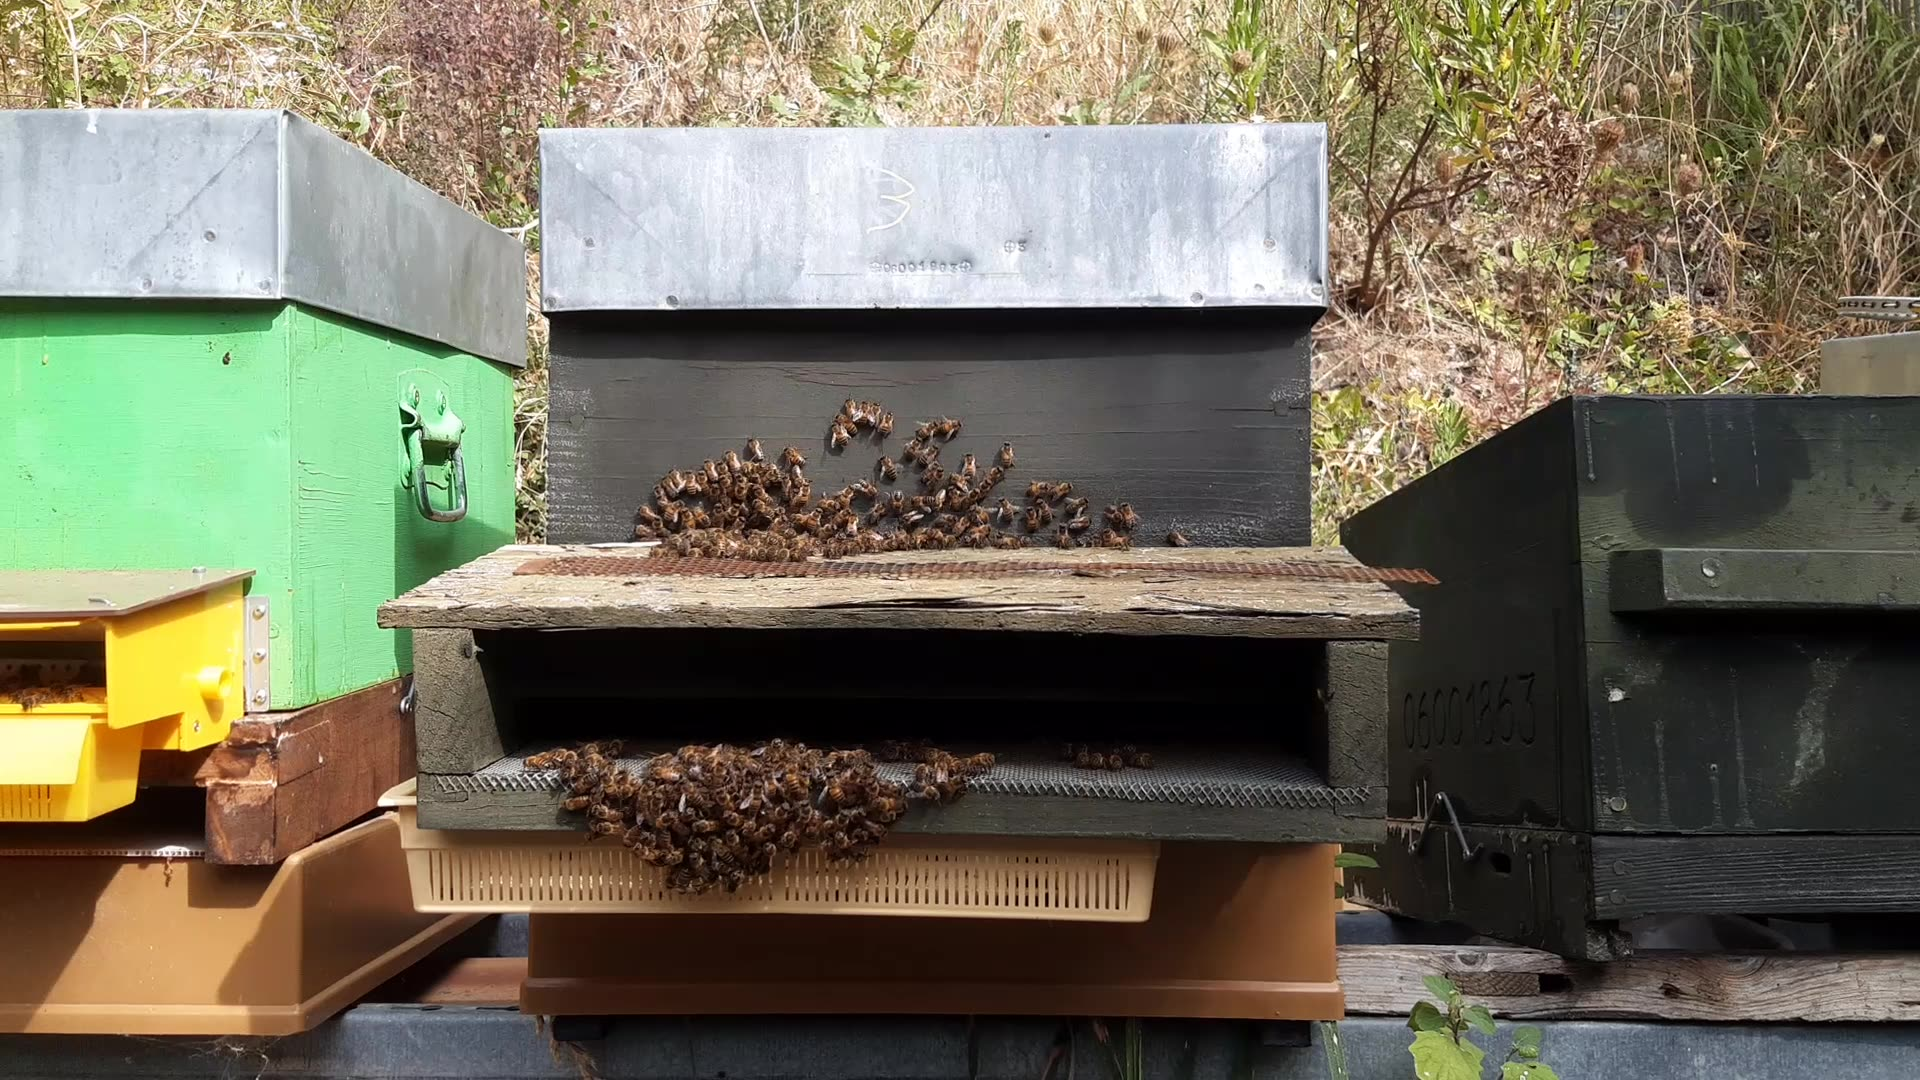bee: (820, 808, 895, 881), (521, 745, 601, 811), (702, 721, 802, 767), (673, 828, 732, 898), (636, 492, 709, 545), (919, 497, 993, 546), (1055, 502, 1133, 549), (735, 458, 795, 512), (640, 731, 723, 769), (1126, 510, 1195, 556), (851, 483, 913, 533), (949, 465, 1004, 520), (749, 502, 811, 547), (831, 414, 901, 452), (1040, 481, 1096, 526), (939, 426, 996, 465)
